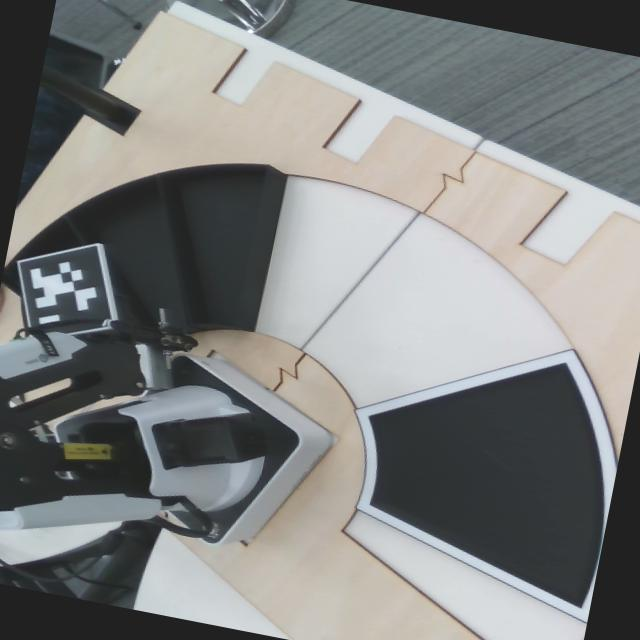board: (314, 321, 636, 608)
box: (60, 168, 224, 361), (0, 214, 161, 394), (160, 167, 298, 338)
